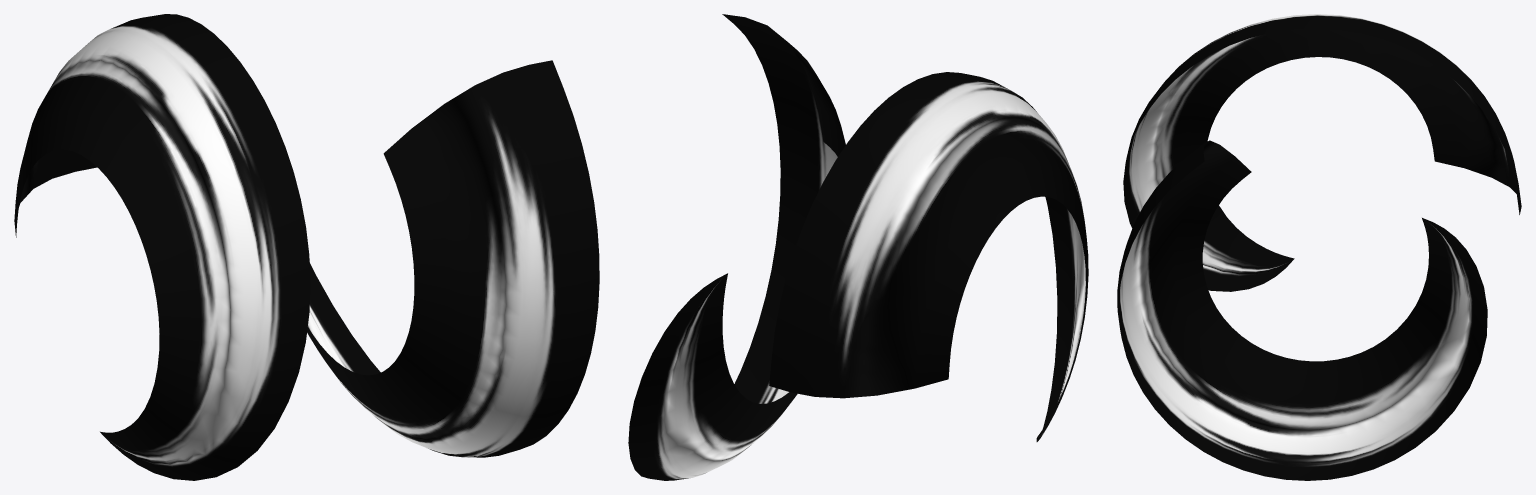
Rendered from PunchWind.fbx.
The picture shows the model from 3 angles, left to right: view 1: azimuth 30°, elevation 25°; view 2: azimuth 150°, elevation 25°; view 3: azimuth 270°, elevation 25°; orthographic projection. The views are drawn at different scales.
Visible parts, largest first — view 1: SM_e_Plc_P1011_Wind007.001; view 2: SM_e_Plc_P1011_Wind007.001; view 3: SM_e_Plc_P1011_Wind007.001.
Boxes of the visible parts, x1,y1,x2,y2 form: SM_e_Plc_P1011_Wind007.001: (14,14,599,480); SM_e_Plc_P1011_Wind007.001: (628,14,1088,480); SM_e_Plc_P1011_Wind007.001: (1117,14,1521,480).
Bounding box in the file's own units: 105 × 117 × 118.
